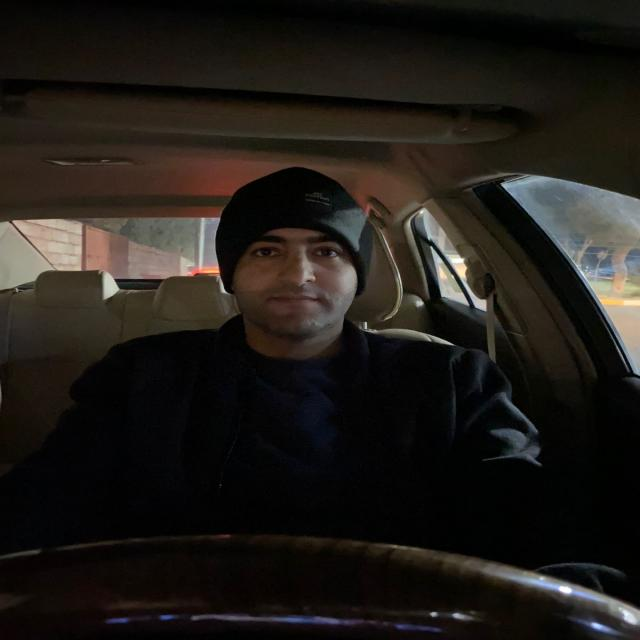person: (204, 164, 380, 346)
